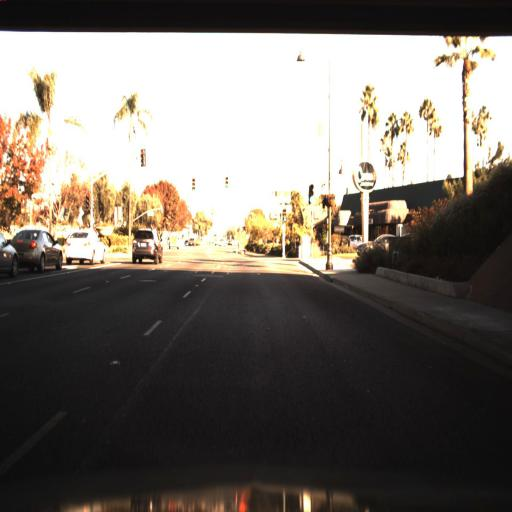car: (10, 229, 64, 271), (58, 224, 109, 266), (351, 232, 401, 261), (129, 226, 162, 266), (166, 229, 182, 257)
trafficLight-Green: (306, 180, 316, 209), (189, 176, 196, 194), (224, 174, 230, 193), (282, 205, 288, 224)
trafficLight-Red: (84, 188, 91, 212), (139, 144, 146, 166)
